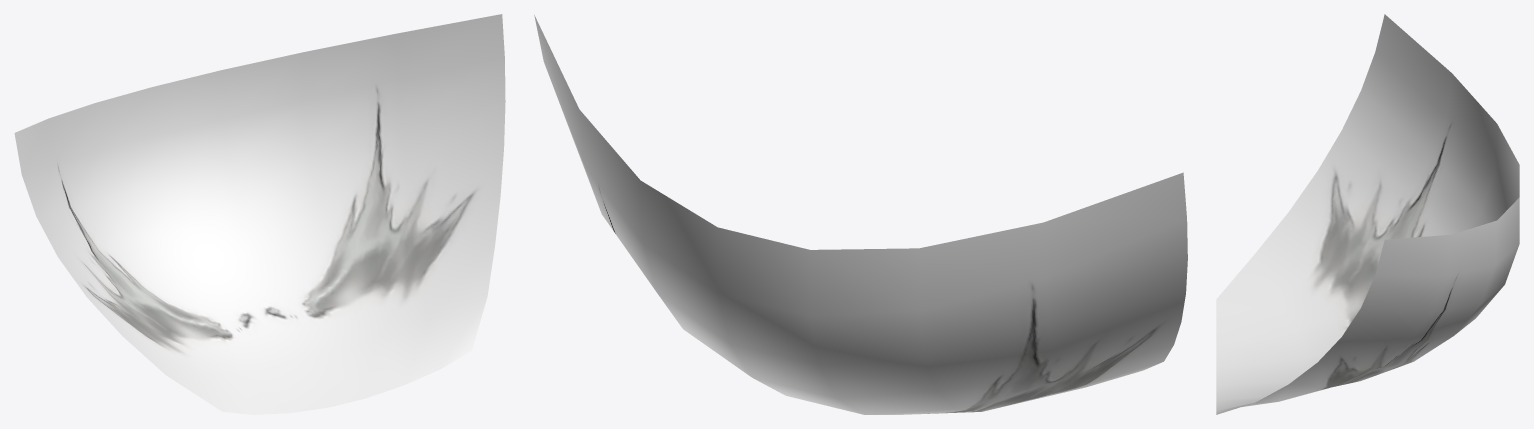
Rendered from smoke_103.FBX.
3 renders of one model, left to right at view 1: azimuth 30°, elevation 25°; view 2: azimuth 150°, elevation 25°; view 3: azimuth 270°, elevation 25°, orthographic. The views are drawn at different scales.
Visible parts, largest first — view 1: smoke_103; view 2: smoke_103; view 3: smoke_103.
Boxes of the visible parts, <box> form: smoke_103: <box>14,14,505,414</box>; smoke_103: <box>534,15,1187,414</box>; smoke_103: <box>1216,14,1519,414</box>.
Size of the model in its own units: 62.35 by 32.32 by 35.4.
